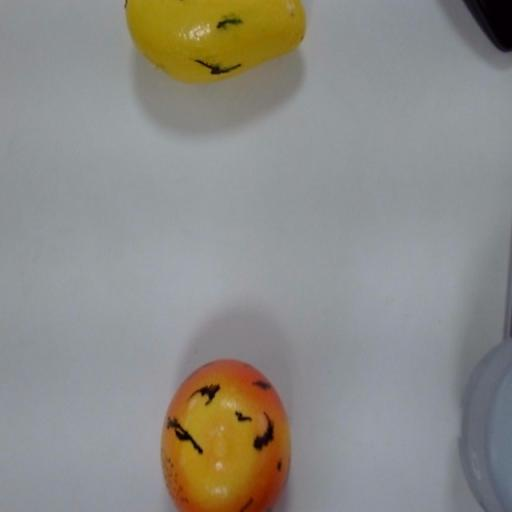Defective: (148, 348, 310, 512), (120, 0, 318, 83)
